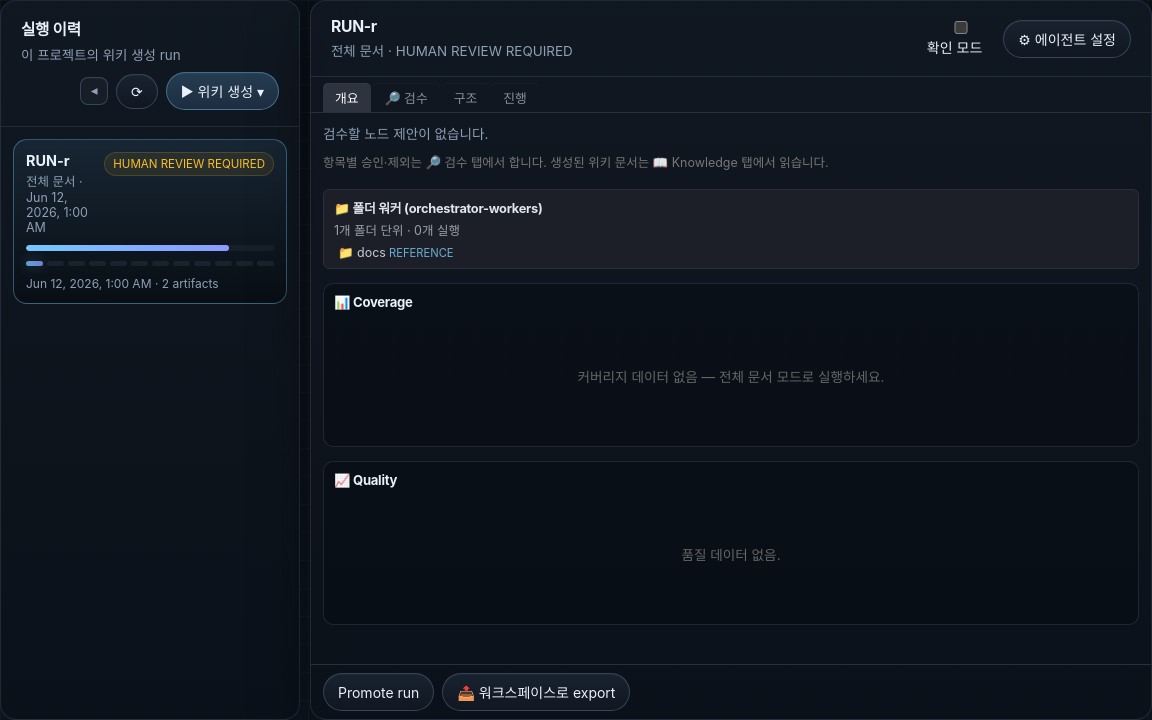
Scenario: WikiGenDashboard › 구조 탭에서 project-discovery 결과를 시각화한다
The image size is (1152, 720).
Step 1. Click the button "구조" → (465, 98), box [442,83,489,112]
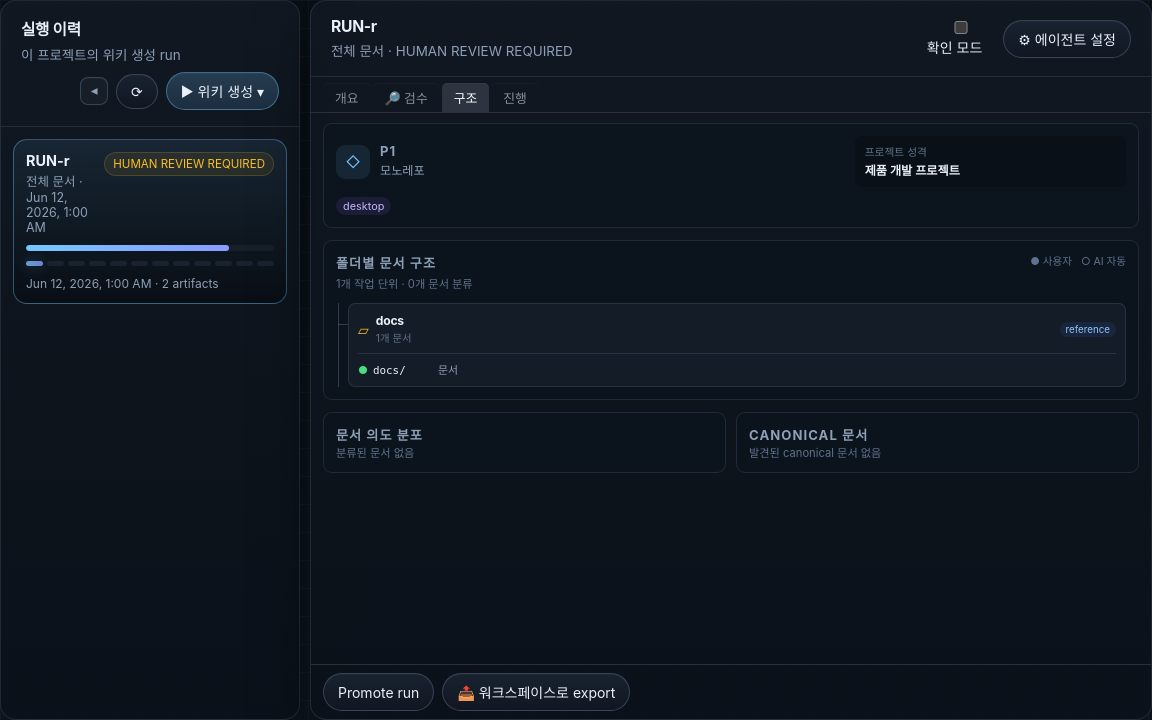
expect the text "제품 개발 프로젝트" is shown: met, box [865,163,960,178]
expect the heading "docs" is shown: met, box [376,313,404,328]
expect the text "문서" is shown: met, box [438,363,458,377]
